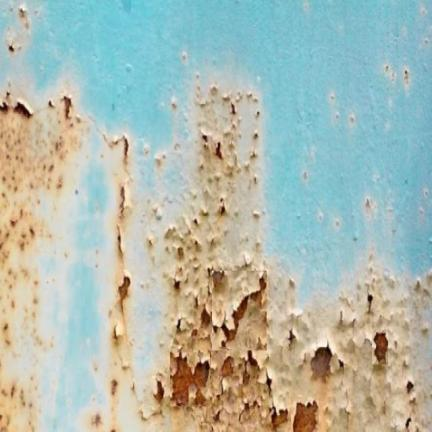karat: (209, 269, 266, 350), (170, 354, 196, 406), (293, 401, 317, 431), (310, 346, 331, 377), (194, 361, 209, 388), (374, 332, 387, 363), (118, 275, 130, 301)
